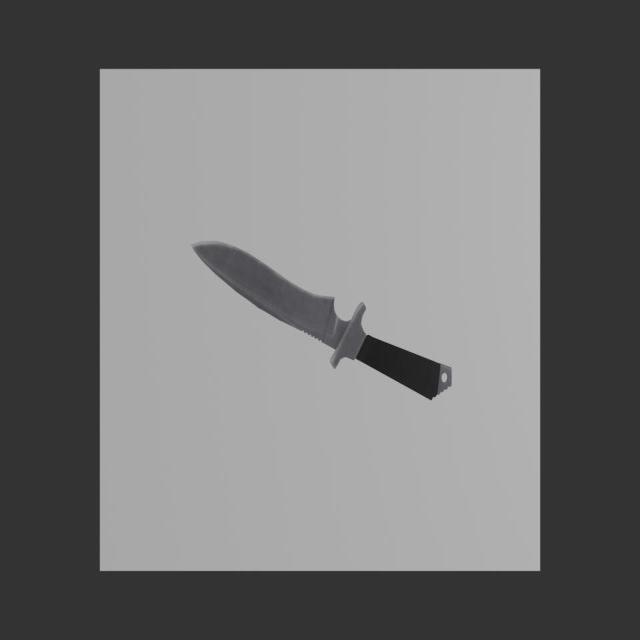knife: (356, 334, 452, 400)
